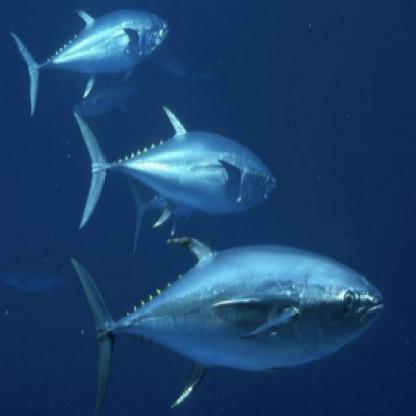tuna: (68, 231, 388, 412), (72, 99, 280, 229), (10, 6, 172, 122)
